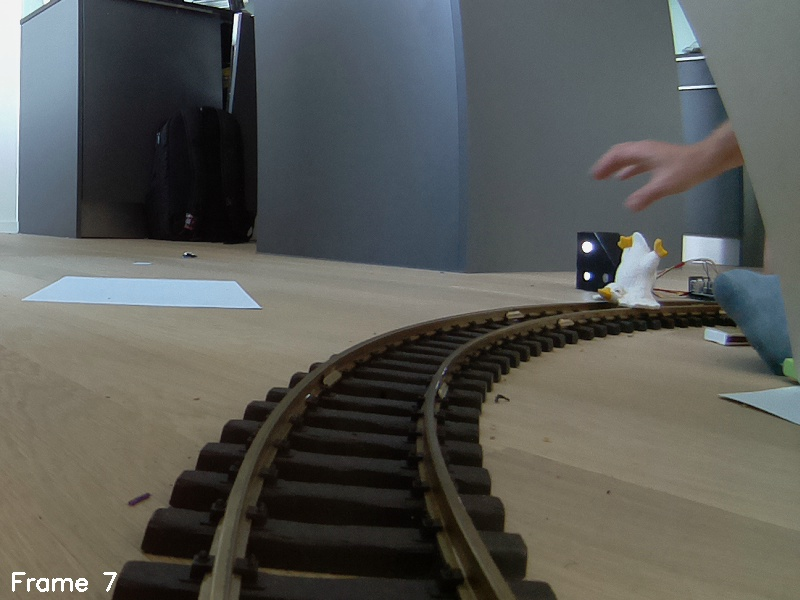Ente: (602, 227, 671, 316)
Fahrt: (575, 227, 630, 301)
